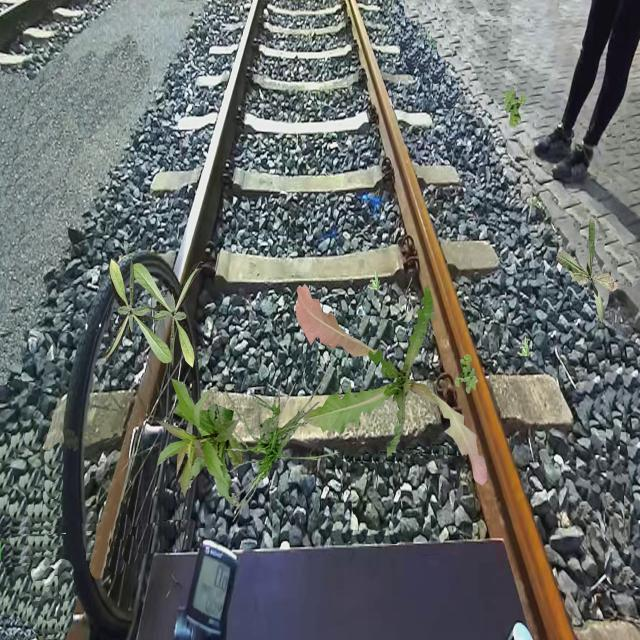Plant: (295, 283, 488, 486), (222, 359, 340, 522), (155, 378, 244, 508), (100, 258, 172, 366), (132, 261, 203, 369), (556, 217, 620, 329), (455, 353, 479, 394), (503, 87, 527, 128), (518, 336, 532, 356), (368, 270, 382, 290)
